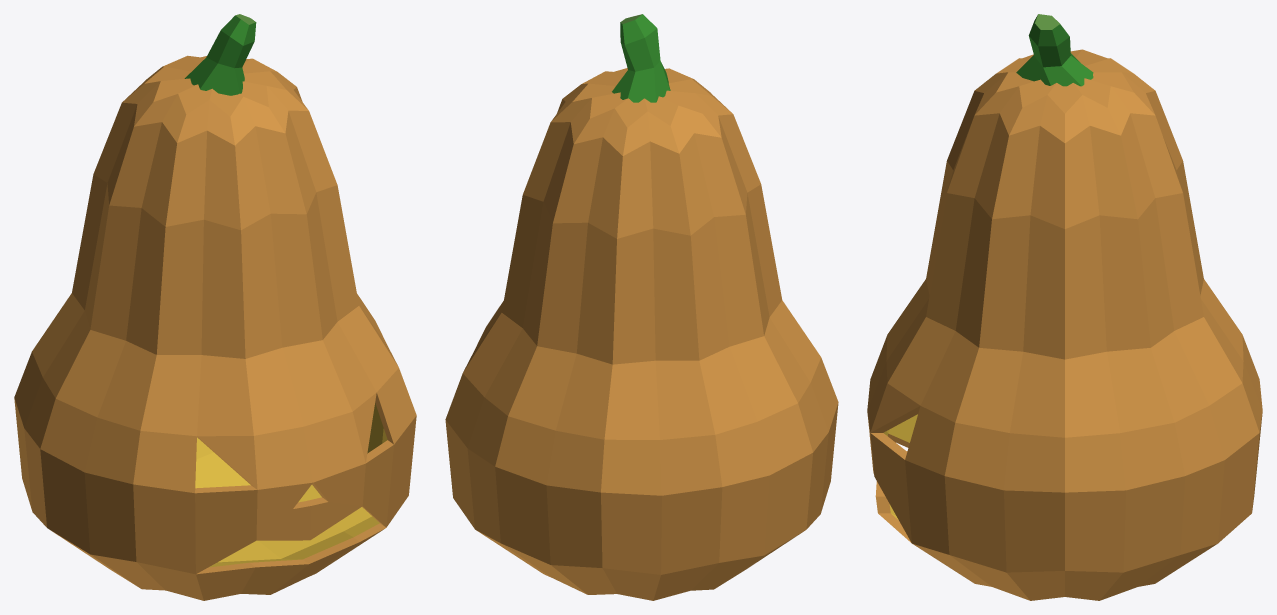
File: pumpkin_2_empty_mat.fbx
3 renders of one model, left to right at view 1: azimuth 30°, elevation 25°; view 2: azimuth 150°, elevation 25°; view 3: azimuth 270°, elevation 25°, orthographic. The views are drawn at different scales.
Parts seen in each view (by area): view 1: pumpkin_2_empty_mat; view 2: pumpkin_2_empty_mat; view 3: pumpkin_2_empty_mat.
Boxes of the visible parts, <box> form: pumpkin_2_empty_mat: <box>14,14,416,600</box>; pumpkin_2_empty_mat: <box>445,14,838,600</box>; pumpkin_2_empty_mat: <box>867,14,1262,600</box>.
Size of the model in its own units: 186 by 286 by 180.
